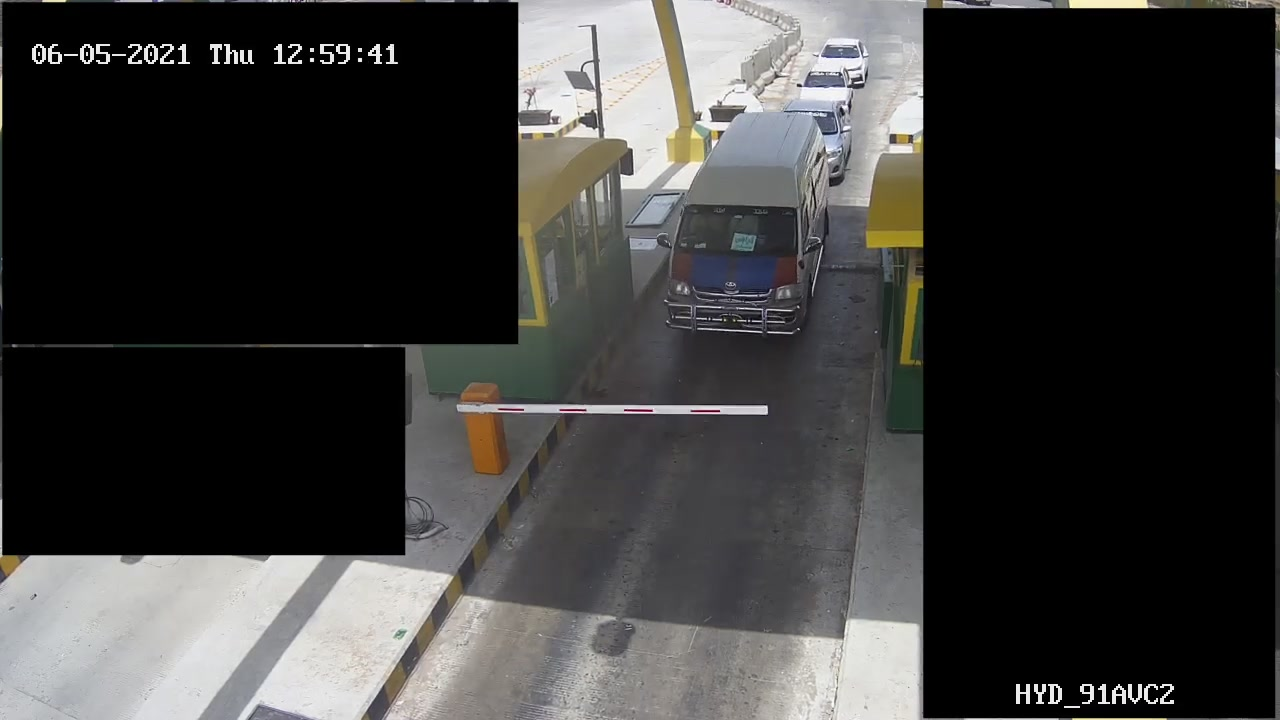F2: (654, 107, 834, 344)
